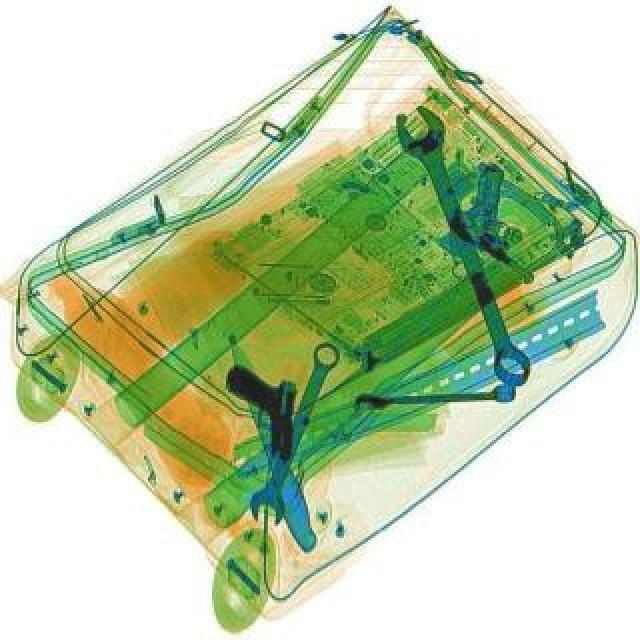gun: (440, 168, 584, 292), (224, 370, 302, 466)
knife: (222, 334, 326, 558)
scissors: (388, 102, 550, 394), (244, 342, 352, 530), (356, 386, 516, 416)
